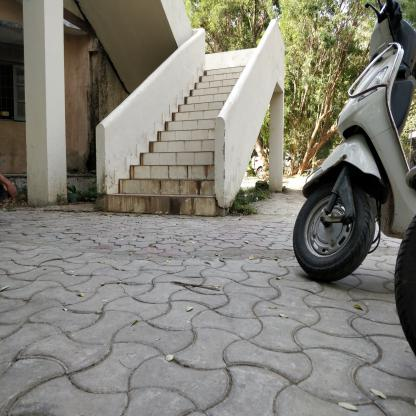stairs: (156, 129, 215, 223)
